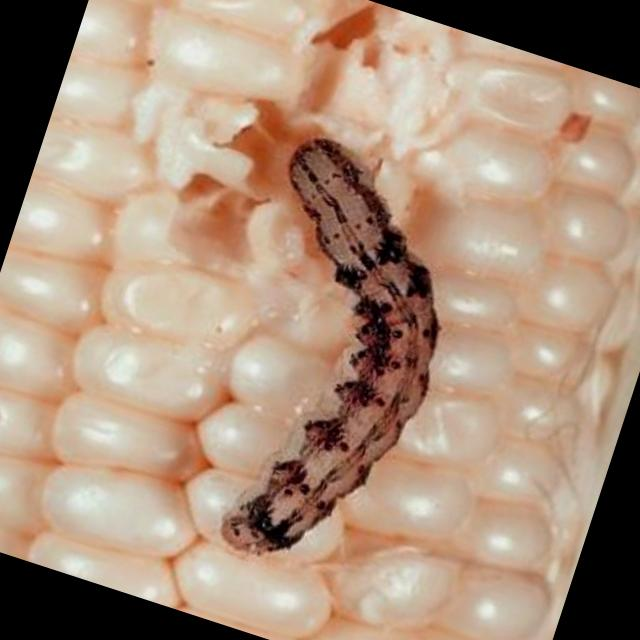Cotton bollworm: (154, 114, 507, 602)
